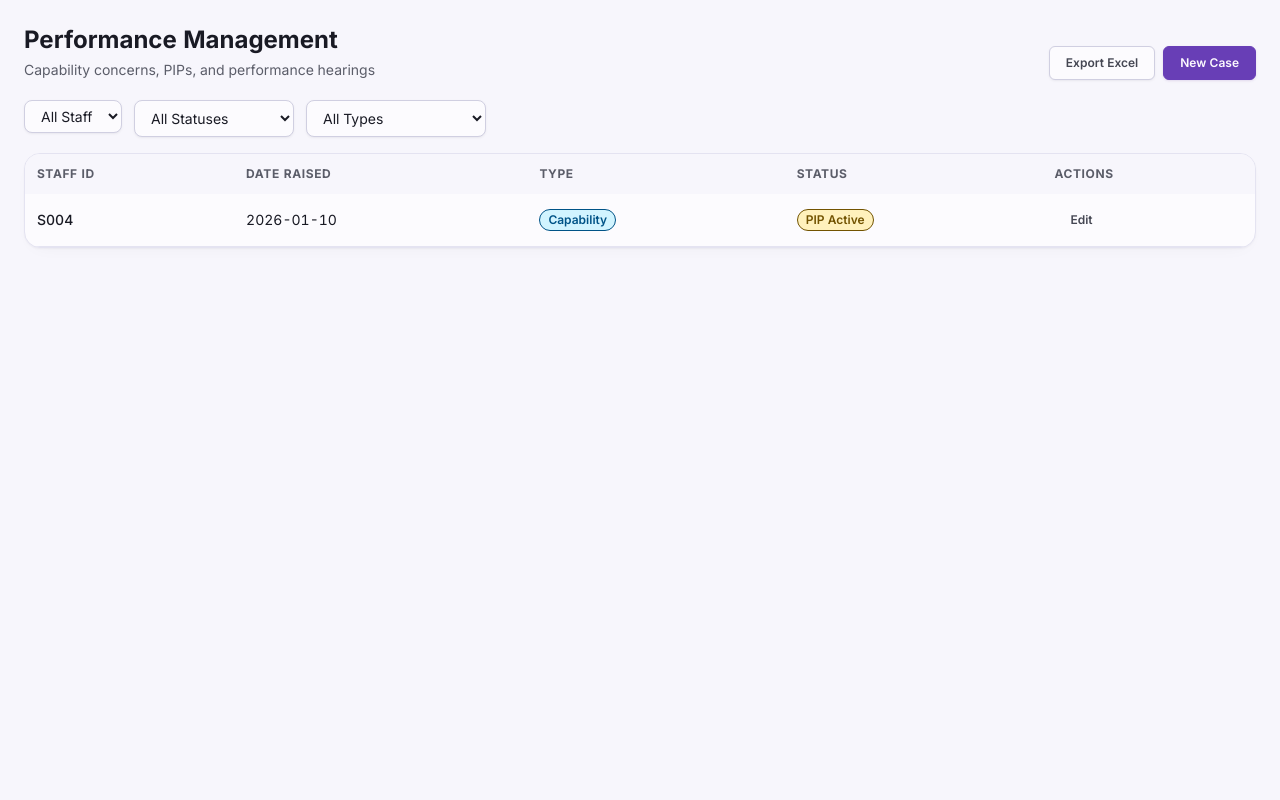
Test case: PerformanceTracker › keeps the create flow on the concern tab until the case exists
Click the button "New Case" at [1210, 63], box [1163, 46, 1256, 80]
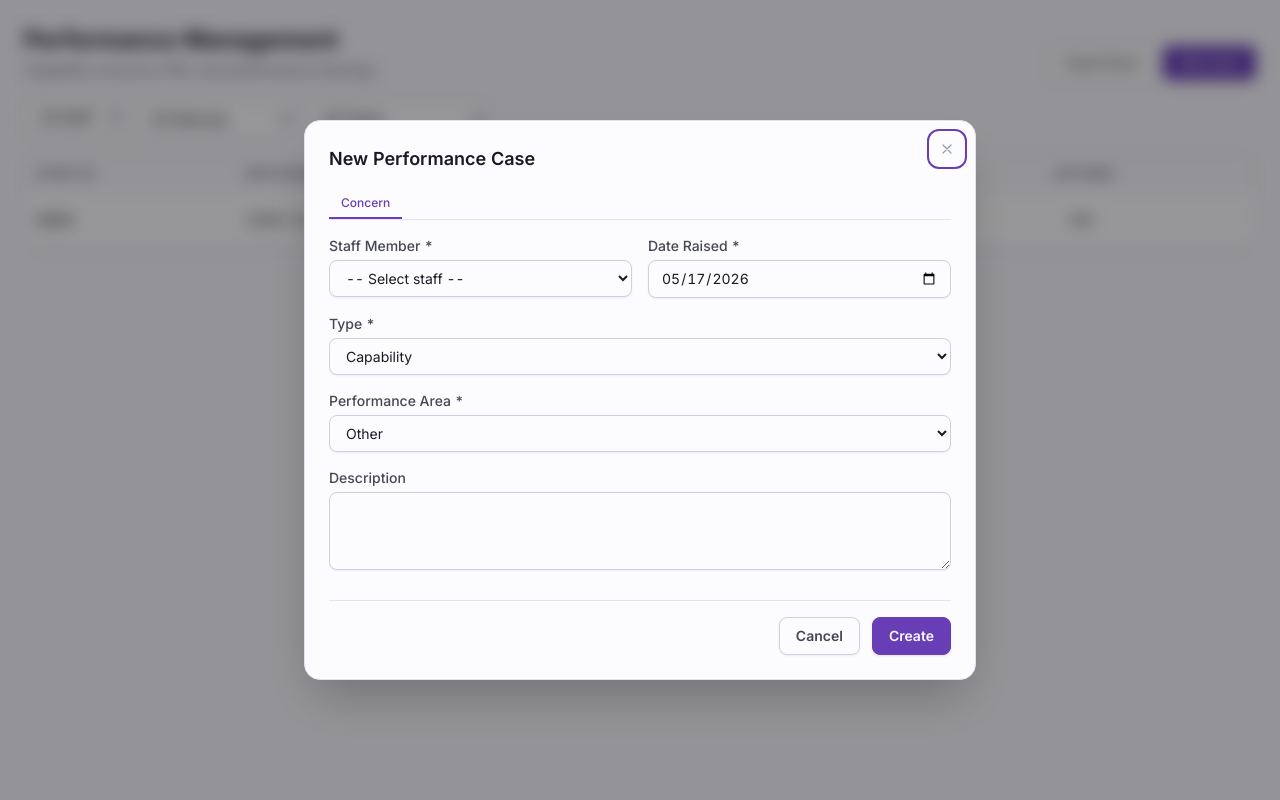
Check: the tab "Concern" is shown, box [329, 189, 402, 219]
Check: the dropdown labelled "Performance Area *" is shown, box [329, 415, 951, 452]
